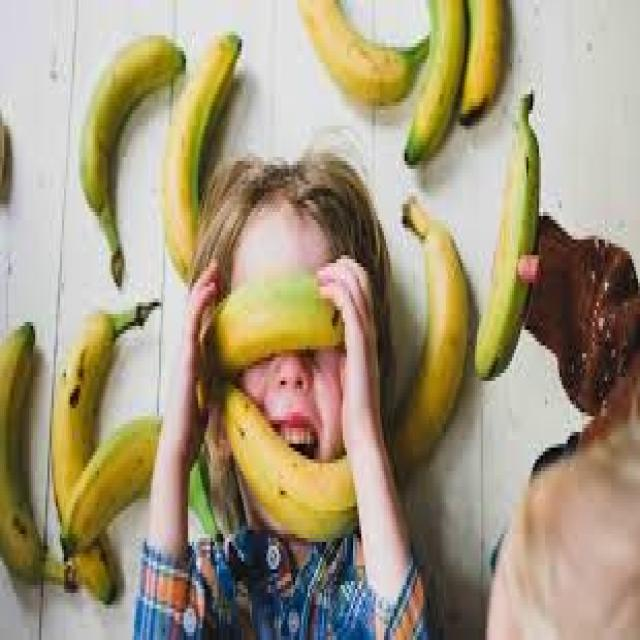banana: (51, 296, 147, 600), (78, 32, 186, 286), (388, 192, 471, 475), (219, 382, 356, 541), (0, 315, 73, 599), (161, 28, 242, 282), (473, 90, 539, 381), (195, 286, 341, 366)
